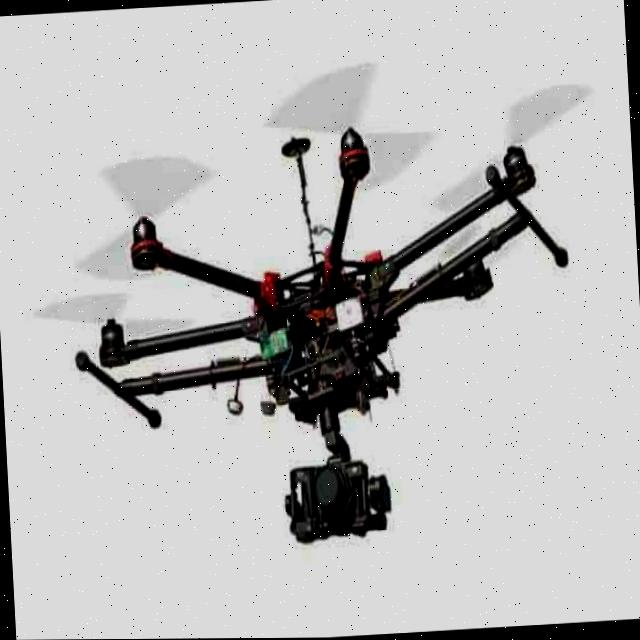drone: (32, 75, 628, 470)
